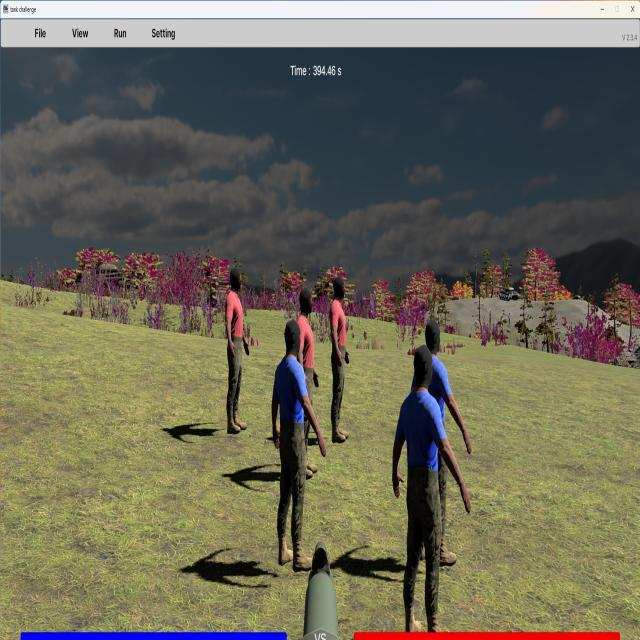Human: (390, 342, 472, 637), (271, 315, 326, 573), (225, 265, 250, 436), (296, 287, 317, 466), (330, 276, 350, 447)
